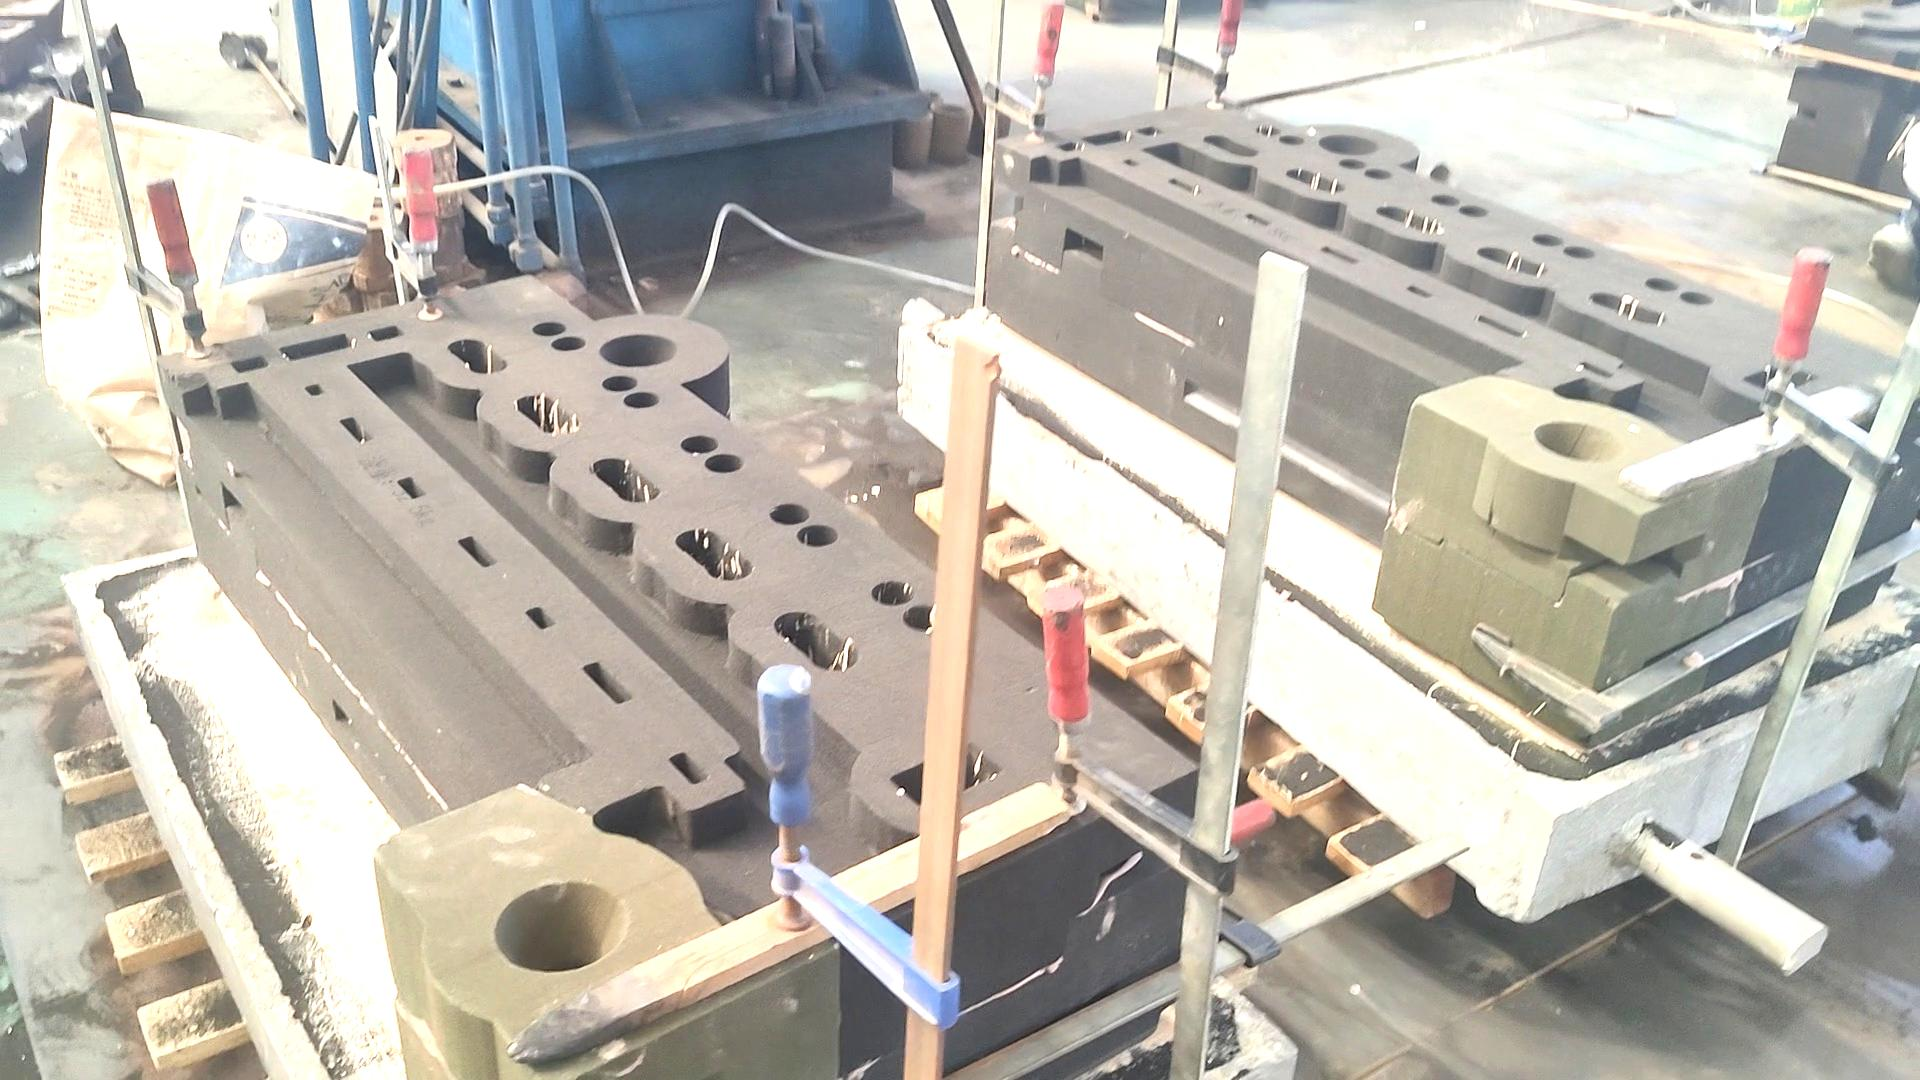pouring hole: (495, 881, 626, 971), (1534, 423, 1625, 462), (597, 334, 676, 367), (1319, 133, 1379, 156), (976, 103, 1013, 113), (1857, 9, 1888, 21), (934, 105, 968, 116), (895, 109, 931, 119), (911, 90, 942, 100)
